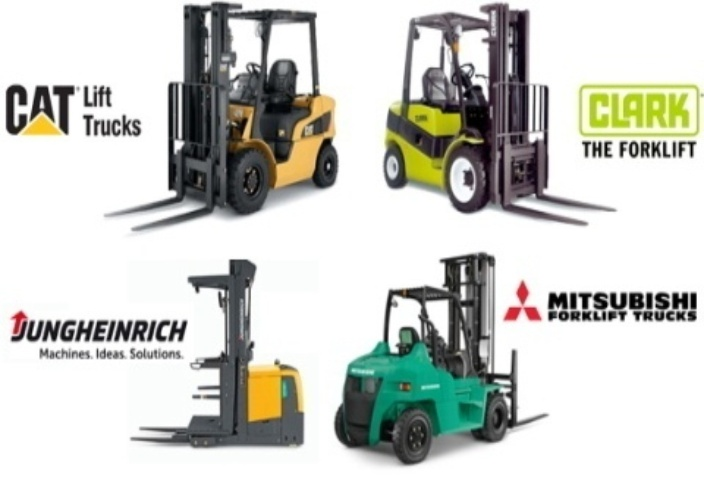industrial: (106, 1, 356, 224), (389, 4, 620, 229), (326, 243, 542, 452), (150, 252, 320, 460)
